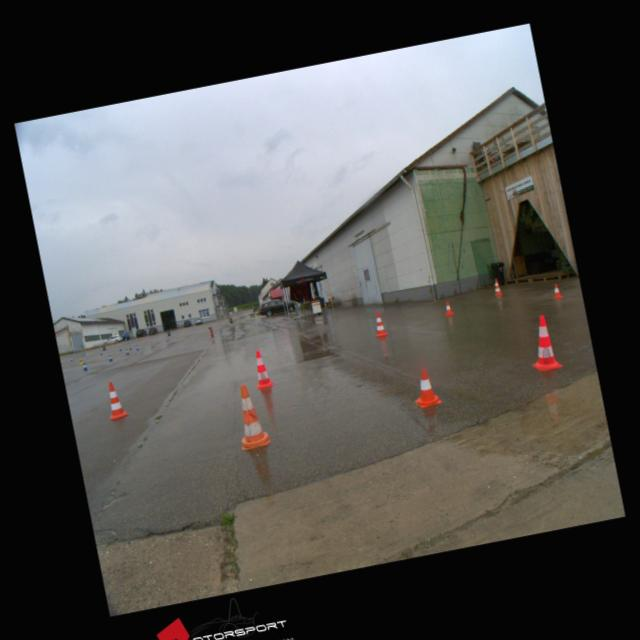blue_cone: (82, 362, 88, 371), (108, 354, 113, 362), (125, 348, 130, 356), (136, 344, 140, 350), (70, 357, 74, 362), (129, 344, 132, 350), (119, 346, 122, 352), (100, 350, 103, 355)
large_orange_cone: (230, 381, 270, 449), (523, 314, 562, 374), (102, 380, 128, 420), (252, 349, 274, 388), (371, 310, 387, 337), (492, 277, 503, 295)
orange_cone: (409, 365, 441, 408), (551, 282, 562, 298), (443, 302, 453, 316)
yellow_cone: (79, 358, 83, 364)
